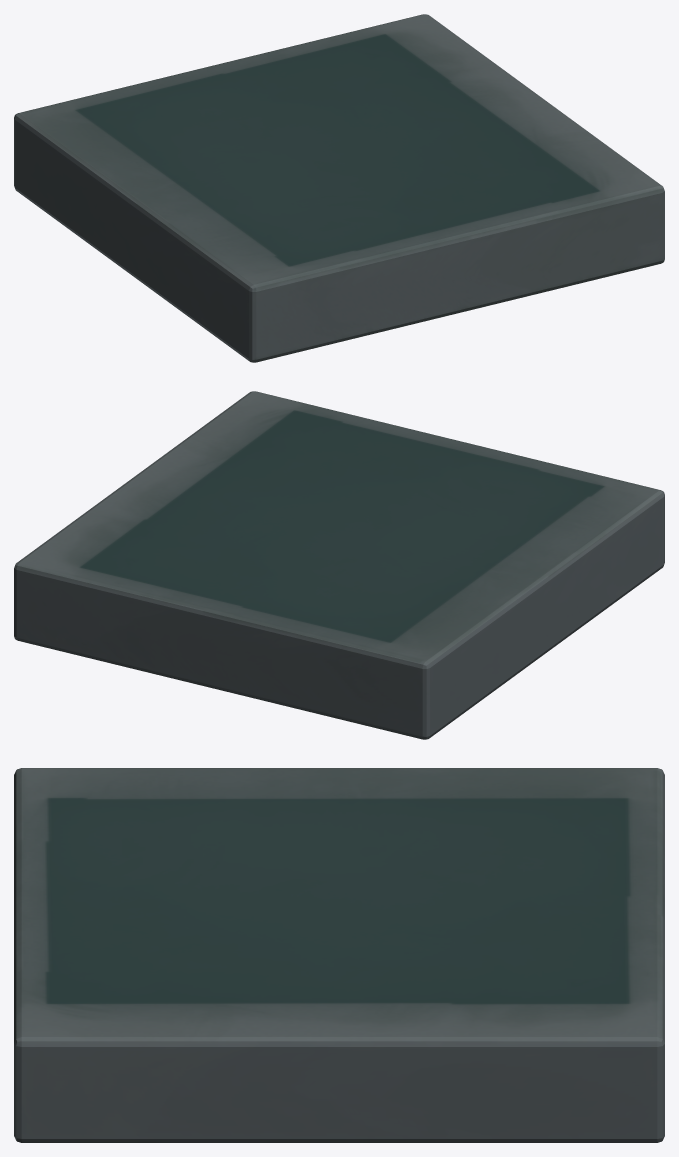
The model's file is SM_cash_register_plate.fbx.
The picture shows the model from 3 angles, top to bottom: view 1: azimuth 30°, elevation 25°; view 2: azimuth 150°, elevation 25°; view 3: azimuth 270°, elevation 25°; orthographic projection. The views are drawn at different scales.
Visible parts, largest first — view 1: Cube.006; view 2: Cube.006; view 3: Cube.006.
Boxes of the visible parts, box(x1,y1,x2,y2) form: Cube.006: box(14, 14, 664, 362); Cube.006: box(14, 391, 664, 739); Cube.006: box(14, 768, 664, 1142).
Size of the model in its own units: 0.5011 by 0.0897 by 0.5011.
